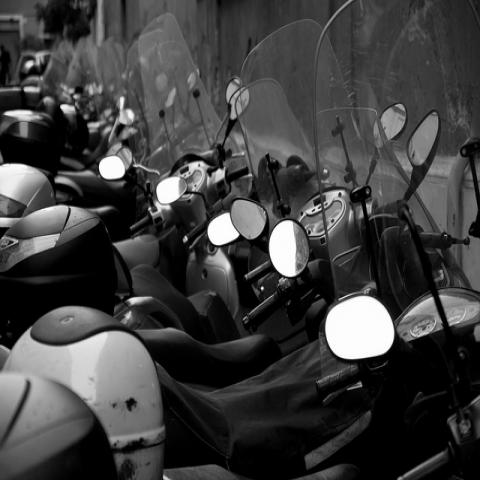motorcycle: (0, 200, 479, 479), (1, 108, 476, 386), (113, 18, 360, 343), (0, 82, 251, 308), (30, 36, 109, 170), (0, 103, 136, 171), (178, 193, 256, 282), (53, 168, 146, 236), (0, 44, 77, 115), (98, 39, 130, 137)
